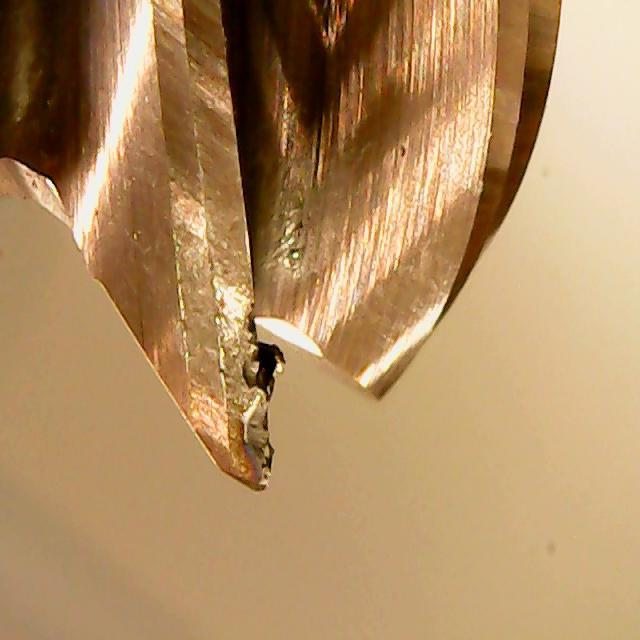Tool-wear-class-1: (163, 252, 290, 493)
